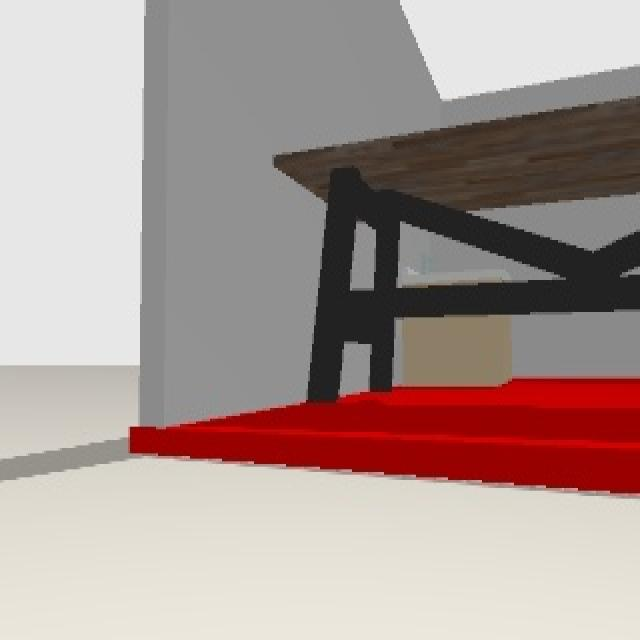dining: (277, 92, 640, 400)
